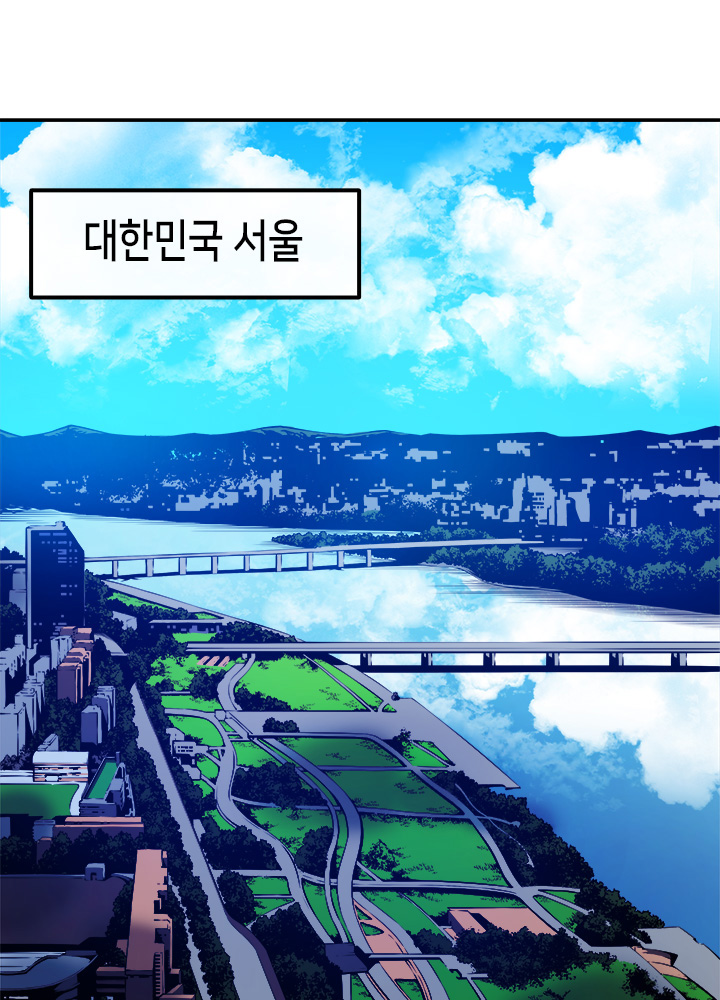dialog box: (4, 163, 389, 321)
text: (67, 200, 315, 281)
